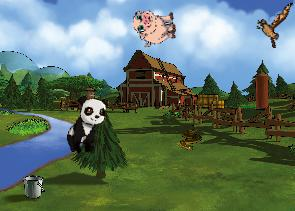eagle: (254, 0, 293, 49)
panda: (63, 92, 110, 158)
pig: (131, 4, 178, 48)
